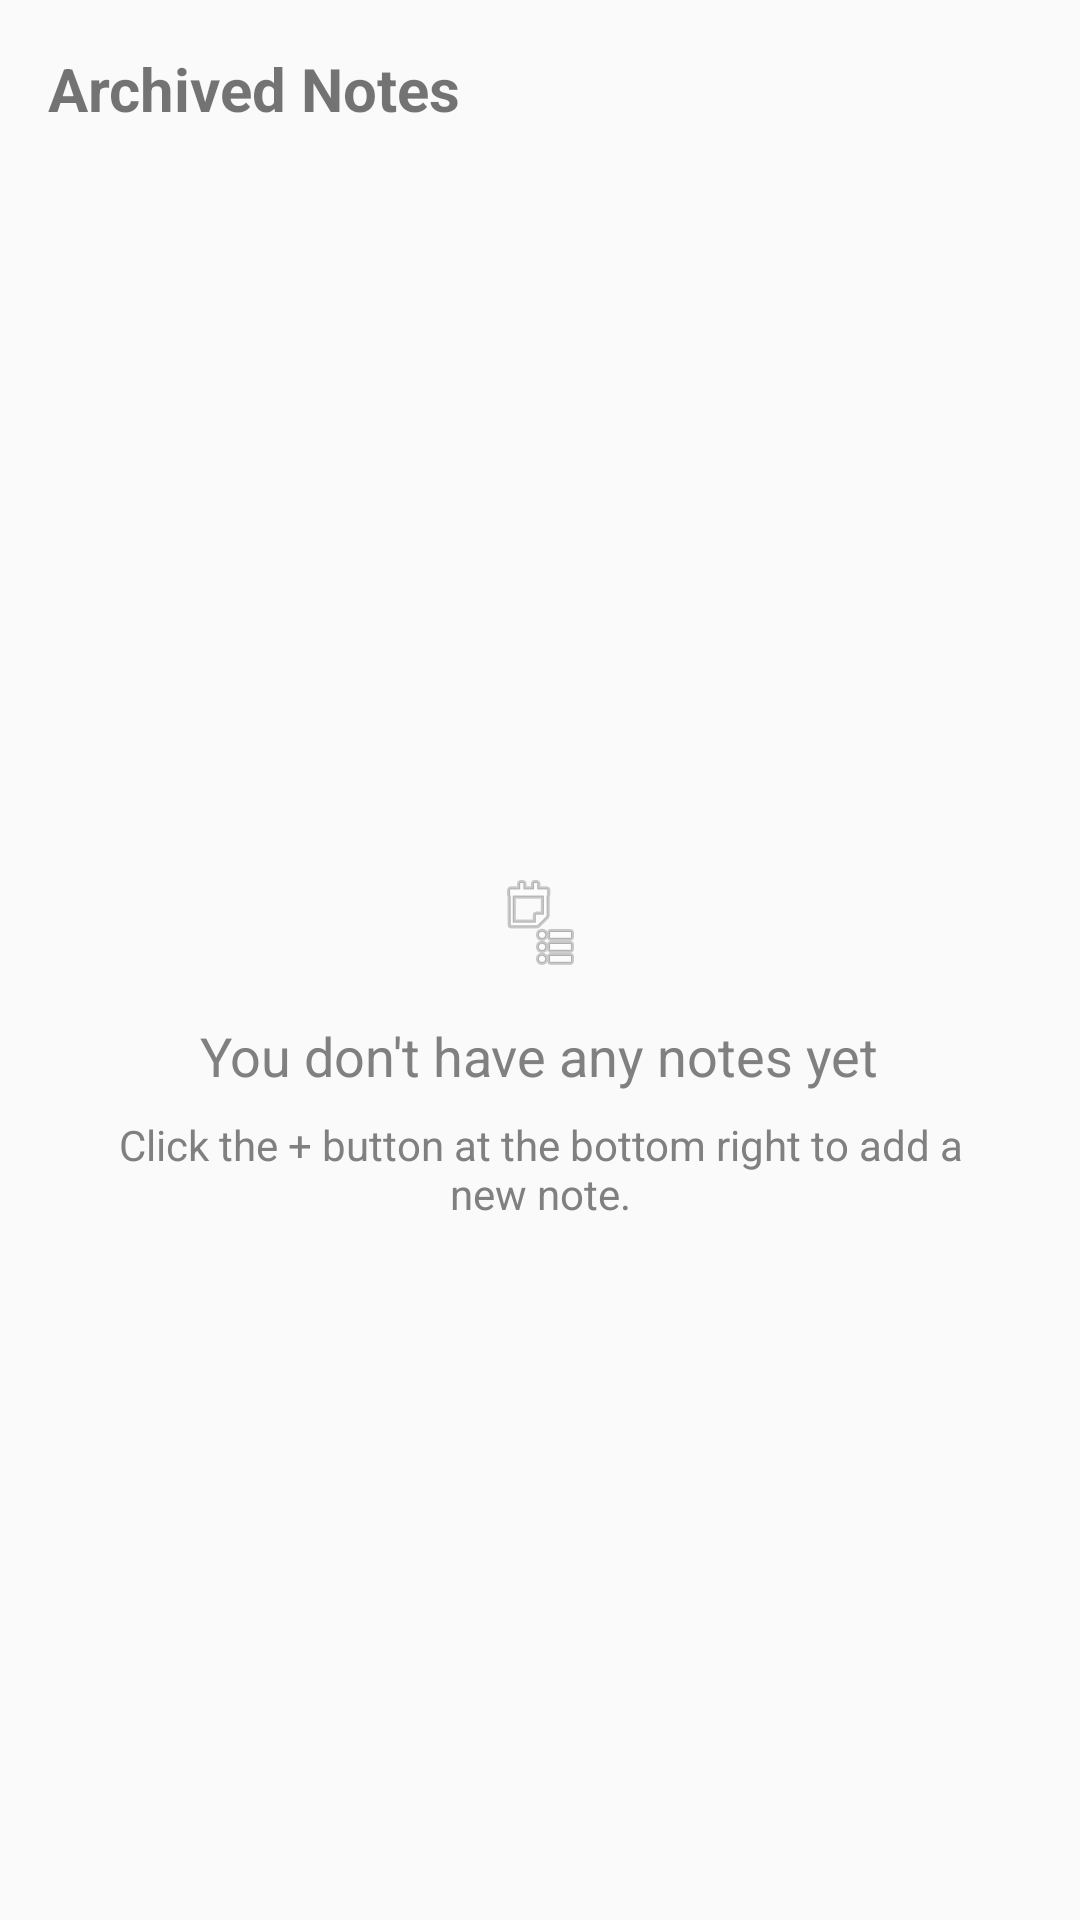

Icons on this 1080 × 1920 Android screen, each with its box as (x1, y1, x2, y2):
agenda: (507, 880, 574, 965)
